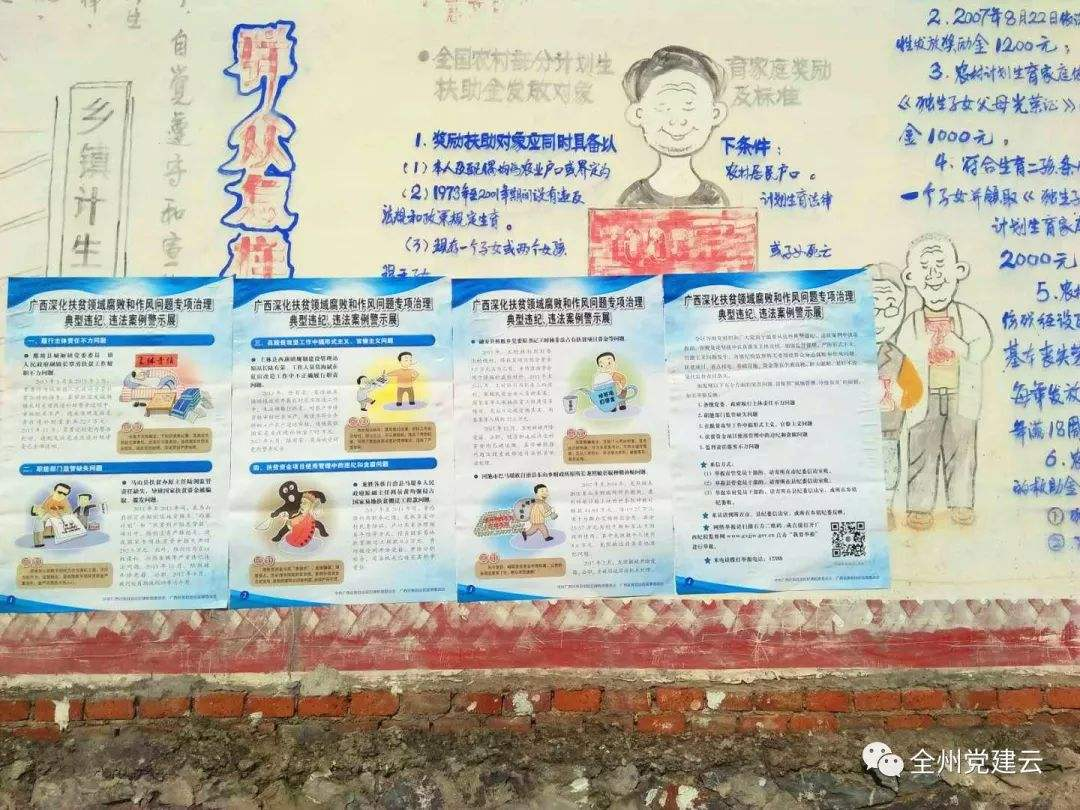bill: (6, 274, 230, 609), (233, 277, 458, 601), (666, 281, 889, 587), (453, 277, 663, 593)
